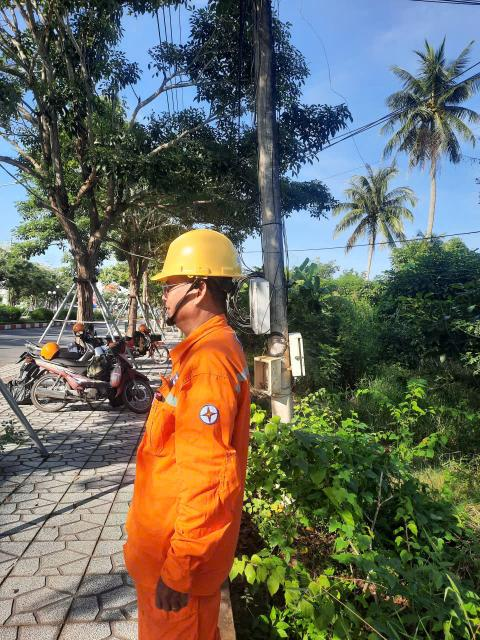helmet: (145, 225, 269, 290)
